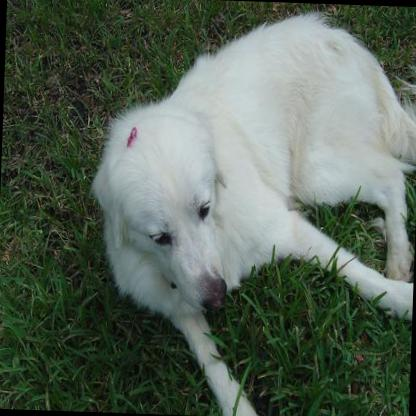Great_Pyrenees: (82, 2, 416, 416)
